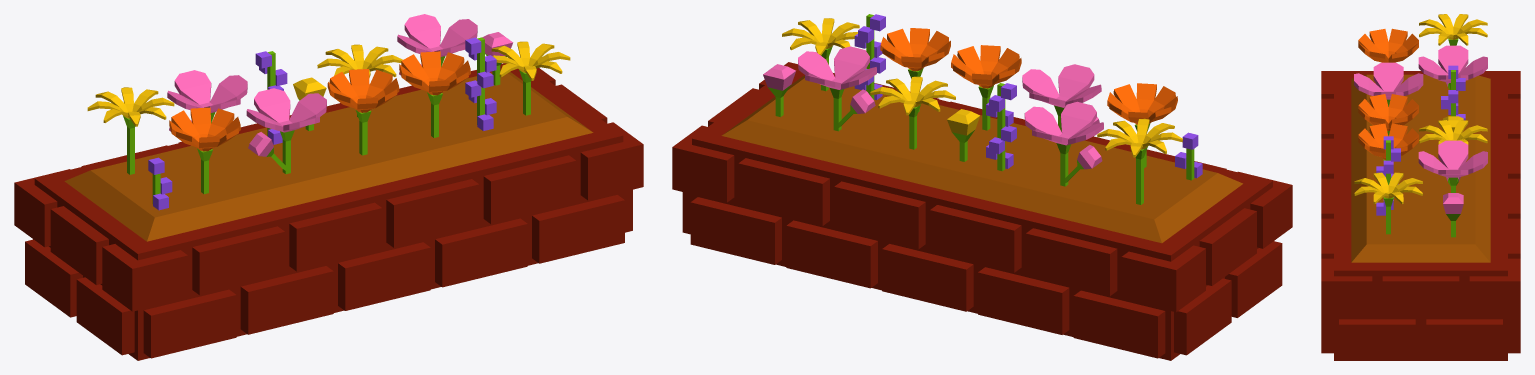
The model's file is FlowerBed.fbx.
3 renders of one model, left to right at view 1: azimuth 30°, elevation 25°; view 2: azimuth 150°, elevation 25°; view 3: azimuth 270°, elevation 25°, orthographic. The views are drawn at different scales.
Parts seen in each view (by area): view 1: FlowerBed, Flower_02_Bloom_2, Flower_03_Bloom_2, Flower_03_Bloom_1, Flower_03_Bloom_3, Flower_02_Bloom_1, Flower_02_Bloom_3, Flower_01_Bloom_1, Flower_01_Bloom_3, Flower_04_Bloom_2, Flower_01_Bloom_2, Flower_04_Bloom_1 (+3 smaller); view 2: FlowerBed, Flower_02_Bloom_1, Flower_02_Bloom_3, Flower_03_Bloom_2, Flower_02_Bloom_2, Flower_03_Bloom_3, Flower_03_Bloom_1, Flower_01_Bloom_1, Flower_01_Bloom_2, Flower_04_Bloom_1, Flower_01_Bloom_3, Flower_04_Bloom_2 (+3 smaller); view 3: FlowerBed, Flower_02_Bloom_3, Flower_02_Bloom_2, Flower_02_Bloom_1, Flower_03_Bloom_1, Flower_03_Bloom_2, Flower_01_Bloom_3, Flower_03_Bloom_3, Flower_01_Bloom_1, Flower_01_Bloom_2, Flower_04_Bloom_2, Flower_04_Bloom_1 (+1 smaller).
Part boxes in pixels (<box>): FlowerBed: <box>14,63,643,360</box>; Flower_02_Bloom_2: <box>246,88,326,174</box>; Flower_03_Bloom_2: <box>327,69,399,155</box>; Flower_03_Bloom_1: <box>169,107,240,194</box>; Flower_03_Bloom_3: <box>399,51,470,137</box>; Flower_02_Bloom_1: <box>167,70,247,154</box>; Flower_02_Bloom_3: <box>397,14,477,98</box>; Flower_01_Bloom_1: <box>87,87,174,174</box>; Flower_01_Bloom_3: <box>491,41,570,115</box>; Flower_04_Bloom_2: <box>465,37,496,130</box>; Flower_01_Bloom_2: <box>317,44,402,117</box>; Flower_04_Bloom_1: <box>255,51,287,144</box>; FlowerBed: <box>672,62,1292,360</box>; Flower_02_Bloom_1: <box>1024,101,1103,186</box>; Flower_02_Bloom_3: <box>798,46,876,131</box>; Flower_03_Bloom_2: <box>951,45,1021,130</box>; Flower_02_Bloom_2: <box>1022,64,1101,147</box>; Flower_03_Bloom_3: <box>880,28,950,111</box>; Flower_03_Bloom_1: <box>1107,83,1177,168</box>; Flower_01_Bloom_1: <box>1097,118,1182,204</box>; Flower_01_Bloom_2: <box>870,76,955,149</box>; Flower_04_Bloom_1: <box>986,83,1016,171</box>; Flower_01_Bloom_3: <box>782,18,859,91</box>; Flower_04_Bloom_2: <box>854,14,885,100</box>; FlowerBed: <box>1321,71,1520,360</box>; Flower_02_Bloom_3: <box>1418,140,1487,192</box>; Flower_02_Bloom_2: <box>1354,62,1423,106</box>; Flower_02_Bloom_1: <box>1418,45,1487,89</box>; Flower_03_Bloom_1: <box>1358,28,1418,62</box>; Flower_03_Bloom_2: <box>1358,94,1418,135</box>; Flower_01_Bloom_3: <box>1354,172,1422,234</box>; Flower_03_Bloom_3: <box>1358,123,1418,160</box>; Flower_01_Bloom_1: <box>1419,14,1487,45</box>; Flower_01_Bloom_2: <box>1419,120,1487,144</box>; Flower_04_Bloom_2: <box>1376,136,1400,215</box>; Flower_04_Bloom_1: <box>1441,65,1465,120</box>.
Bounding box in the file's own units: 40 × 15.45 × 16.
5 materials, 5 textured.
